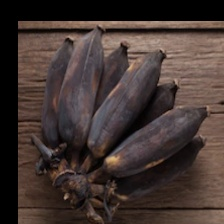banana: (27, 53, 162, 196)
